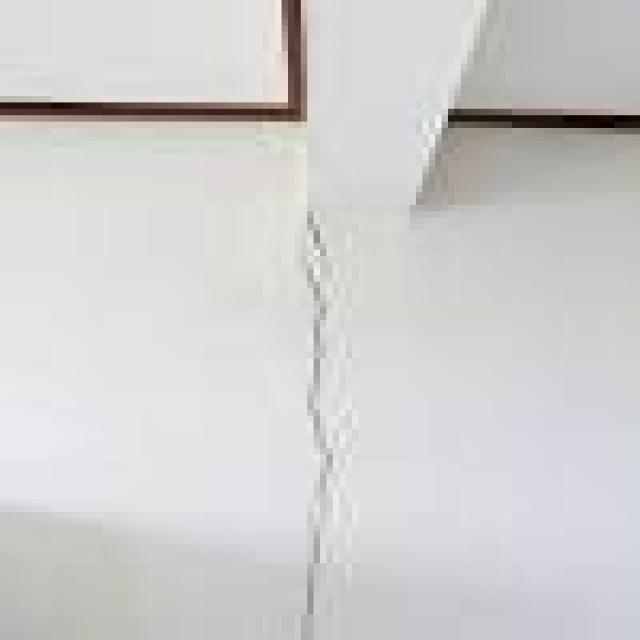Crack: (294, 198, 340, 634)
